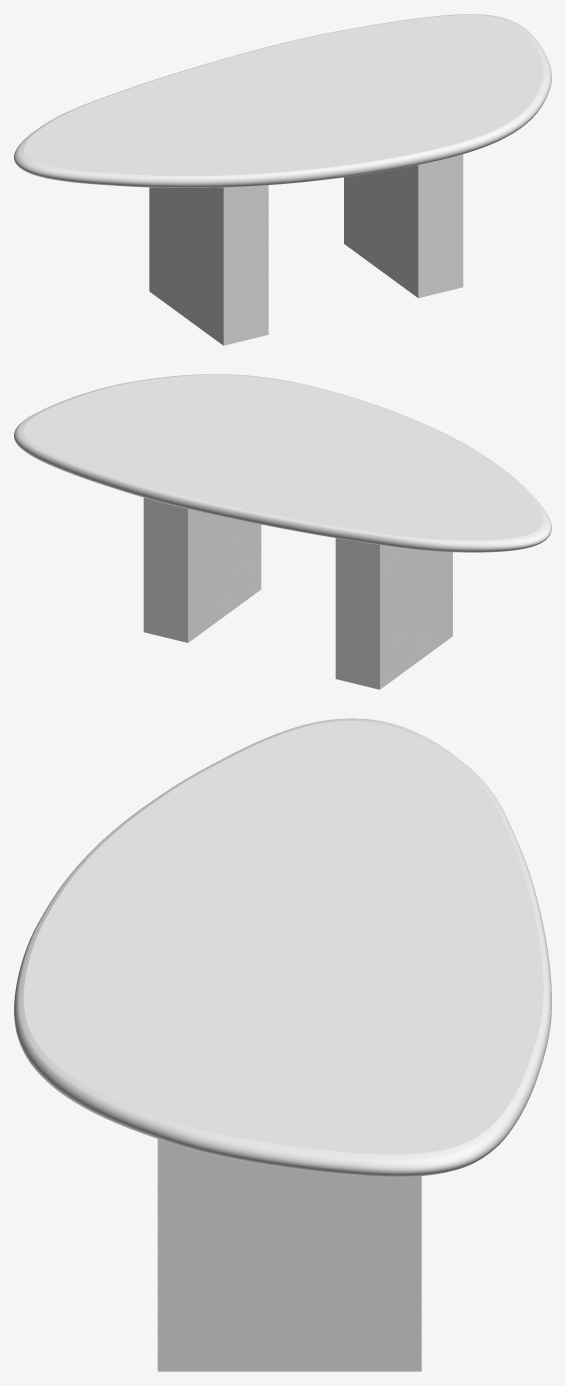
The model's file is purewhite_pebbletop_round_ridge.glb.
The picture shows the model from 3 angles, top to bottom: view 1: azimuth 30°, elevation 25°; view 2: azimuth 150°, elevation 25°; view 3: azimuth 270°, elevation 25°; orthographic projection. The views are drawn at different scales.
Parts seen in each view (by area): view 1: round_pebbletop, ridge; view 2: round_pebbletop, ridge; view 3: round_pebbletop, ridge.
Part boxes in pixels (x1,y1,x2,y2): round_pebbletop: (14, 14, 551, 187); ridge: (149, 154, 463, 345); round_pebbletop: (14, 374, 551, 552); ridge: (143, 497, 452, 689); round_pebbletop: (14, 718, 551, 1176); ridge: (157, 1139, 421, 1371).
Size of the model in its own units: 7.5 by 2.51 by 3.8.
1 material, 1 textured.
